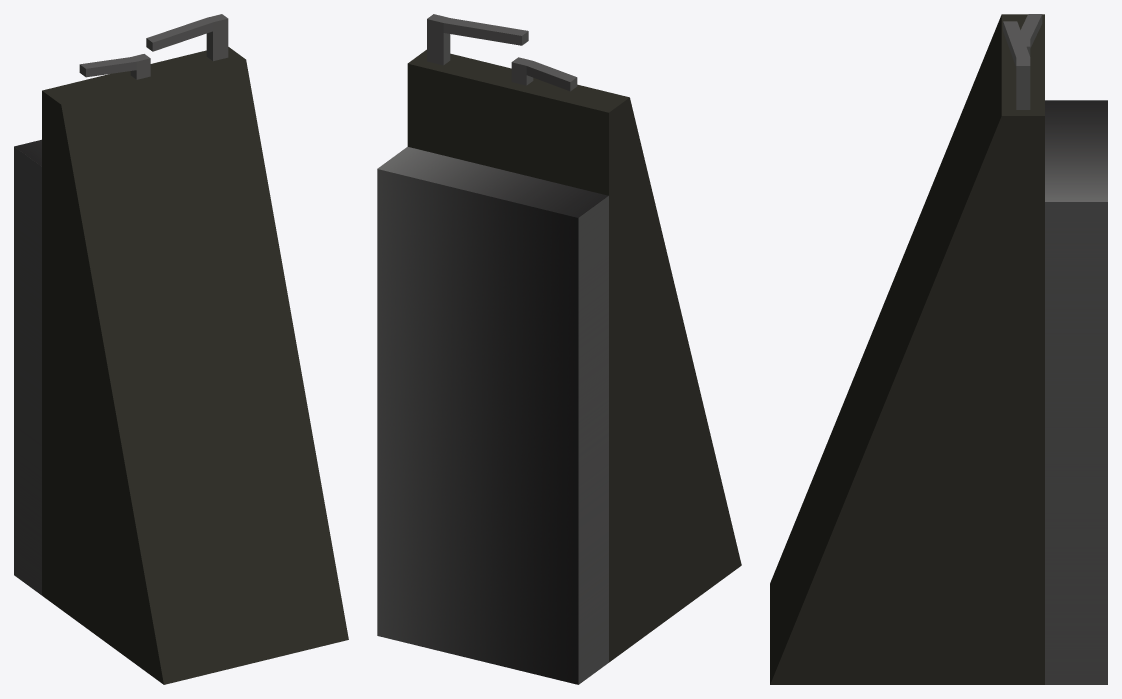
File: Cheese_Grater.fbx
The picture shows the model from 3 angles, left to right: view 1: azimuth 30°, elevation 25°; view 2: azimuth 150°, elevation 25°; view 3: azimuth 270°, elevation 25°; orthographic projection. The views are drawn at different scales.
Visible parts, largest first — view 1: Cheese_Grater; view 2: Cheese_Grater; view 3: Cheese_Grater.
Boxes of the visible parts, bbox=[...] form: Cheese_Grater: bbox=[14, 14, 348, 684]; Cheese_Grater: bbox=[377, 14, 741, 684]; Cheese_Grater: bbox=[770, 14, 1107, 684].
Bounding box in the file's own units: 25.11 × 70.59 × 35.26.
